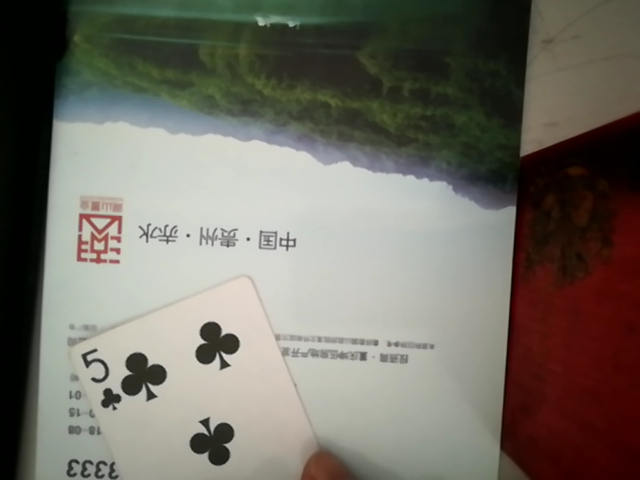mh 5: (57, 270, 317, 478)
